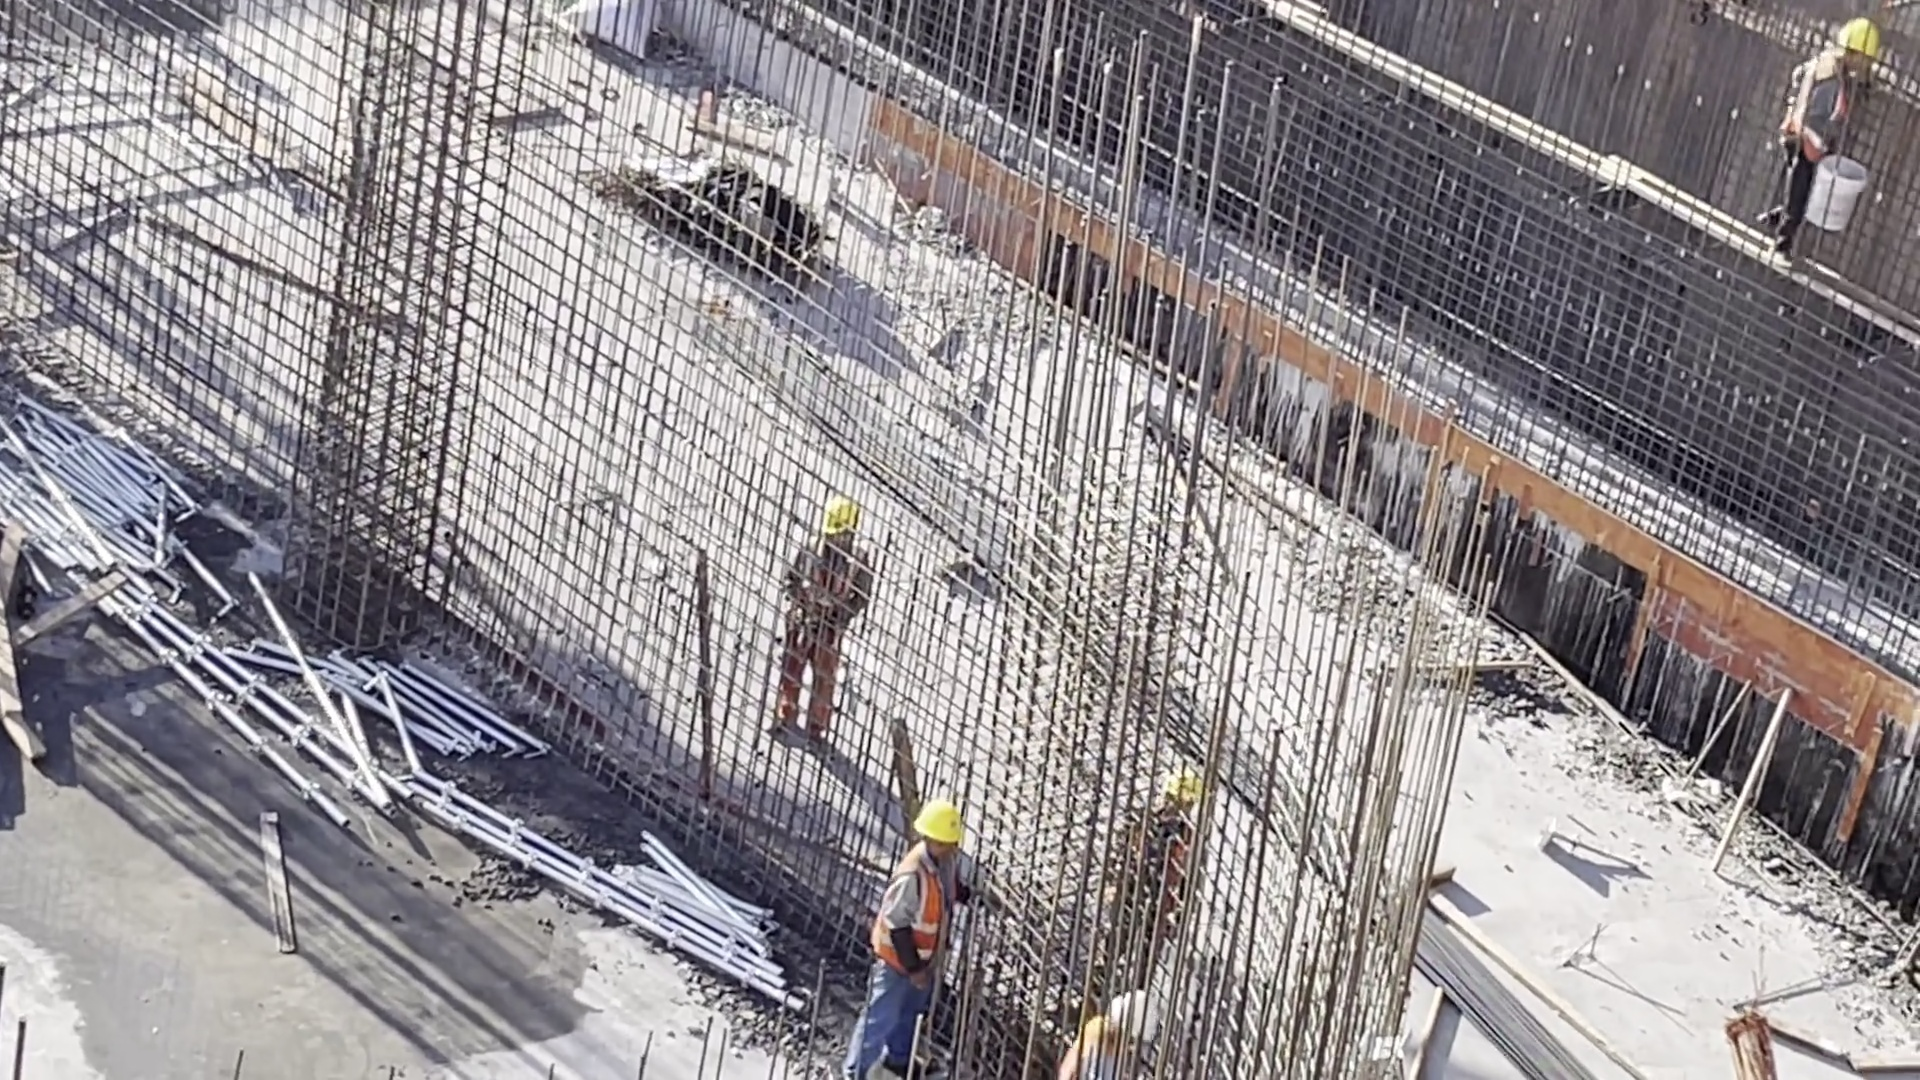helmet: (907, 801, 967, 853), (1832, 16, 1892, 64), (1106, 993, 1164, 1042), (1160, 763, 1212, 815), (817, 490, 862, 548)
person: (854, 806, 1011, 1067), (1748, 9, 1893, 271), (788, 502, 900, 742), (1126, 764, 1207, 960), (1054, 975, 1173, 1080)
rebar: (1397, 894, 1604, 1080)
scaffold: (587, 826, 802, 1008), (271, 638, 515, 783), (1, 385, 182, 564)
vest: (871, 854, 953, 965), (1789, 49, 1865, 158), (787, 545, 862, 617), (1063, 1022, 1130, 1080)
